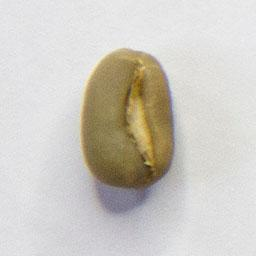peaberry: (77, 43, 179, 193)
